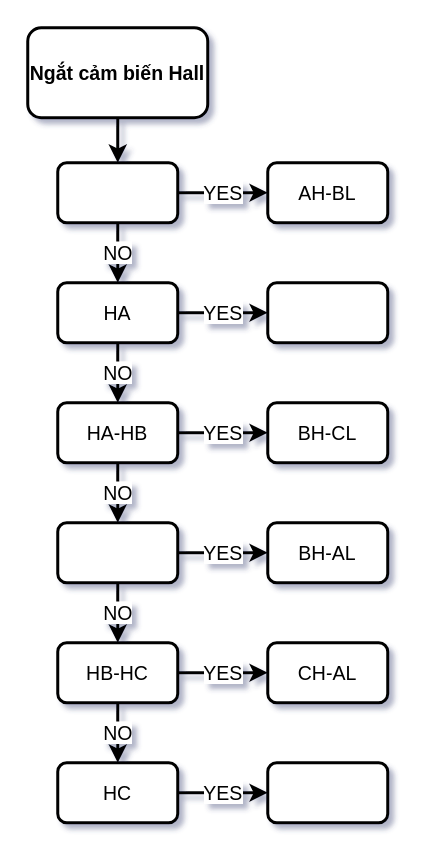
The diagram is 423 pixels wide and 858 high, and some of its shapes have lost their labels. The centre of each missing label's shape, as x and y in pixels:
"AH-CL" belongs at [327,312].
"CH-BL" belongs at [327,792].
"HA-HC" belongs at [117,192].
"HB" belongs at [117,552].
